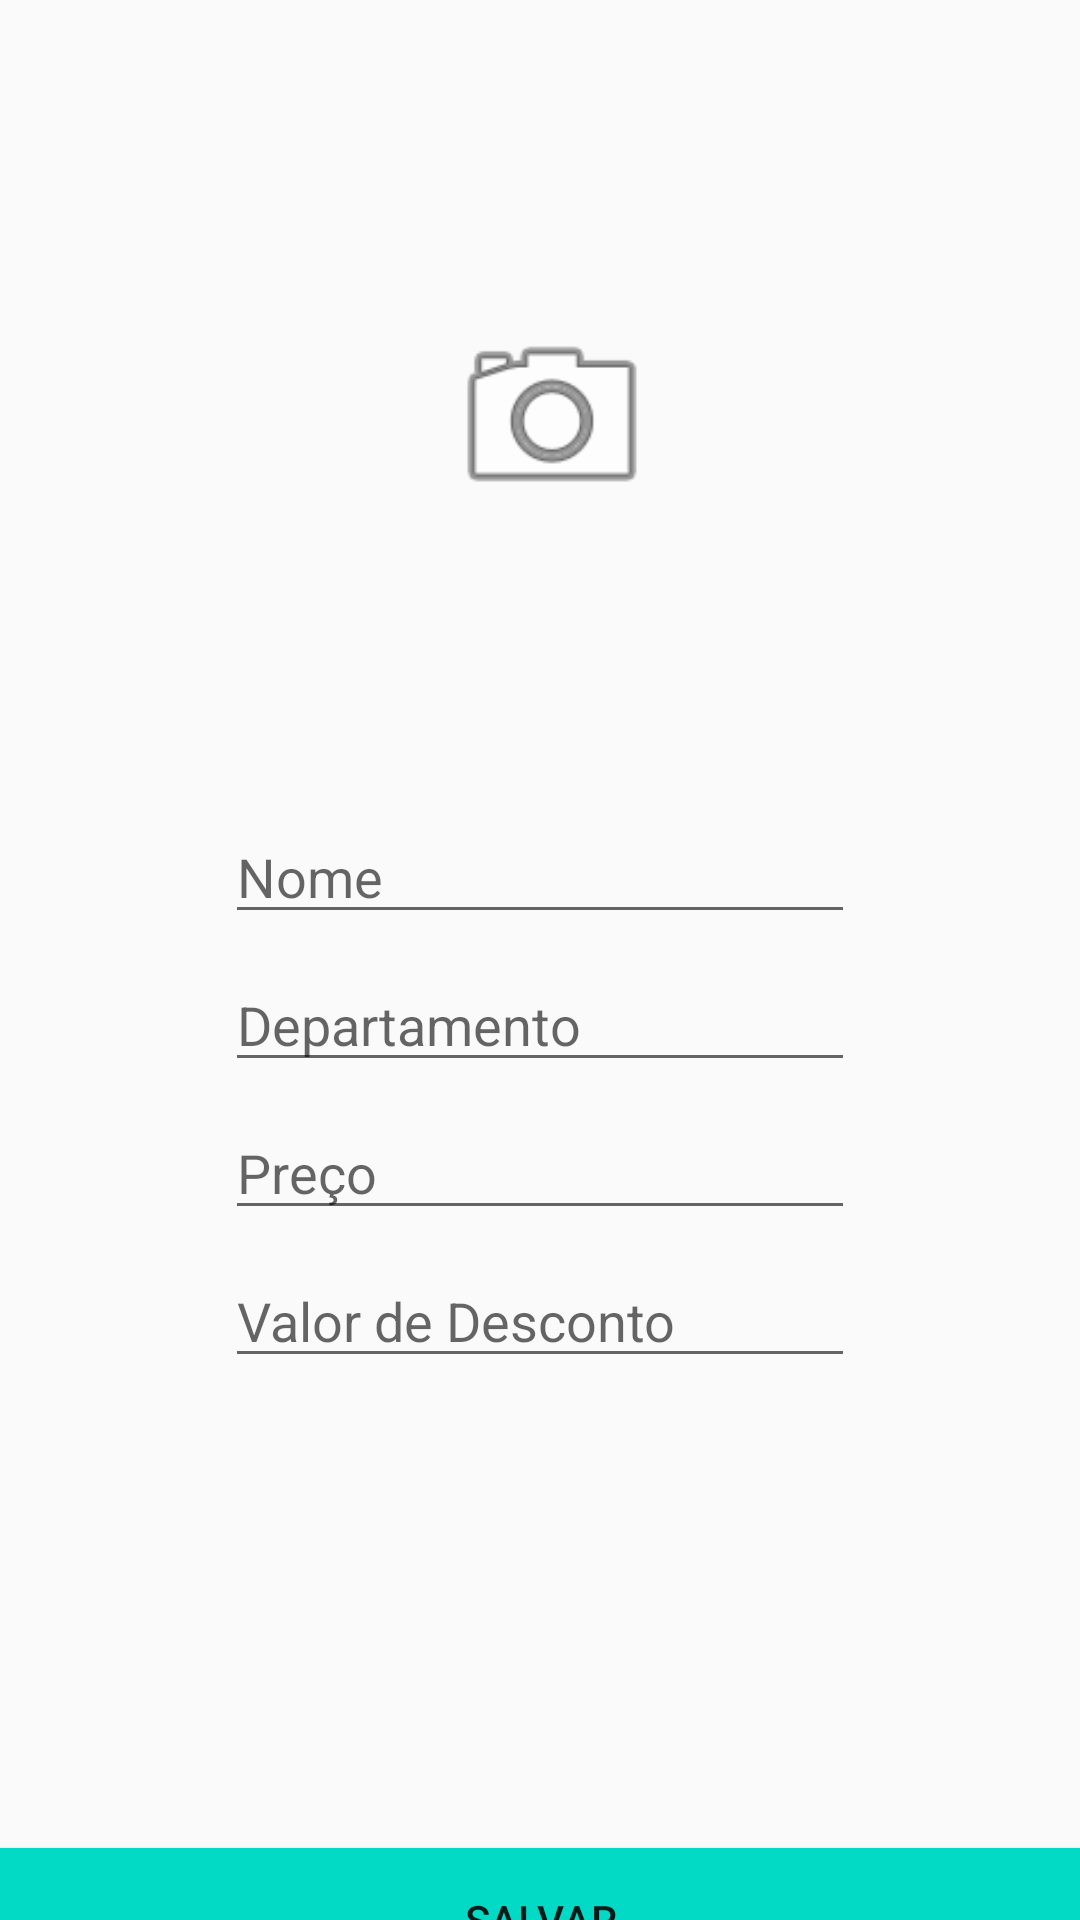

Where icons sit on this 1080×1920 app screen, as region(x1, y1, x2, y2):
camera: region(467, 347, 637, 482)
